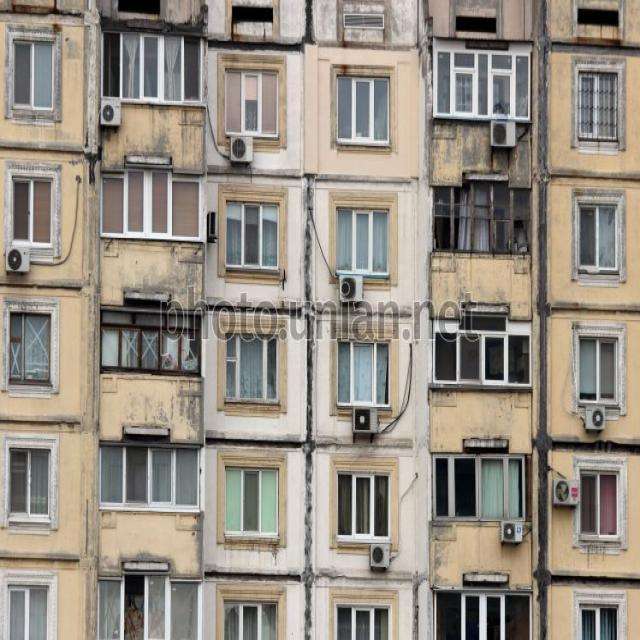Window: (437, 49, 526, 118), (434, 188, 530, 248), (101, 176, 200, 232), (100, 453, 198, 506), (104, 322, 195, 376), (437, 458, 524, 512), (436, 333, 528, 383), (119, 36, 195, 94), (104, 581, 192, 631), (225, 200, 282, 264), (439, 598, 528, 636), (229, 334, 278, 401), (224, 471, 276, 530), (339, 79, 386, 142), (13, 44, 54, 108), (228, 74, 276, 127), (340, 475, 386, 530), (340, 346, 386, 400), (340, 212, 384, 268), (12, 314, 46, 382), (583, 74, 617, 138), (13, 184, 50, 242), (584, 481, 616, 539), (580, 342, 613, 398), (584, 207, 612, 273), (14, 460, 46, 512), (224, 605, 275, 635), (11, 590, 45, 631), (332, 610, 386, 632), (584, 606, 616, 634)
